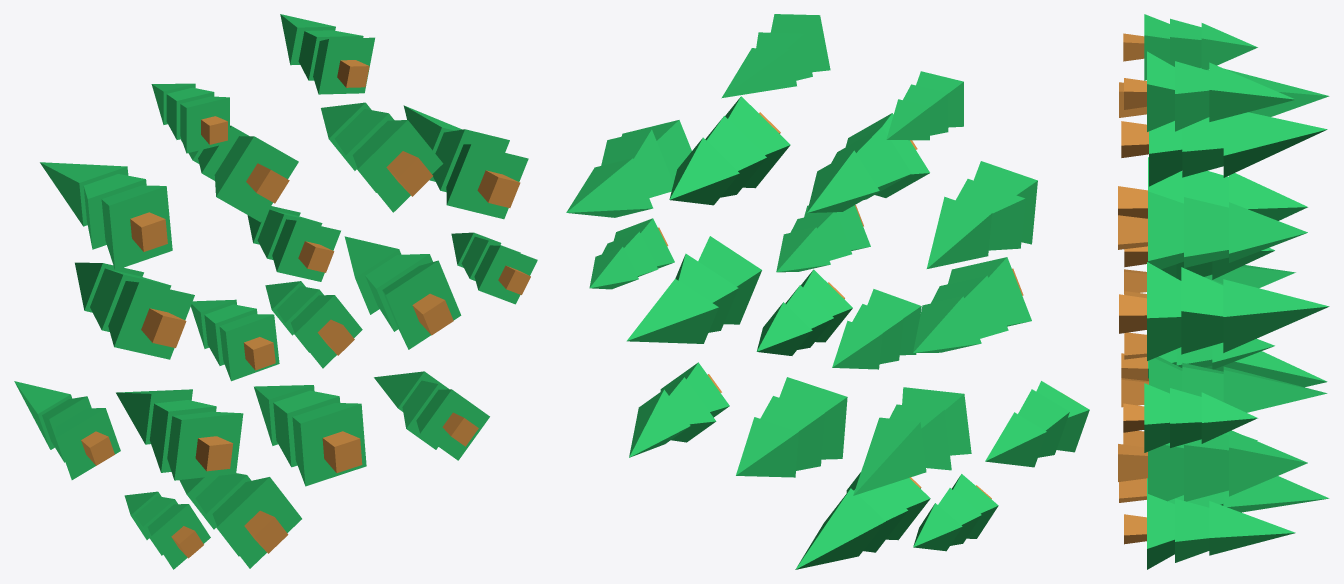
Rendered from nature_taigaFlat.fbx.
The picture shows the model from 3 angles, left to right: view 1: azimuth 30°, elevation 25°; view 2: azimuth 150°, elevation 25°; view 3: azimuth 270°, elevation 25°; orthographic projection.
Visible parts, largest first — view 1: Taiga; view 2: Taiga; view 3: Taiga.
Part boxes in pixels (left/top/right/bottom): Taiga: left=14, top=14, right=537, bottom=569; Taiga: left=566, top=14, right=1089, bottom=569; Taiga: left=1118, top=14, right=1329, bottom=569.
Size of the model in its own units: 171 by 174 by 65.
